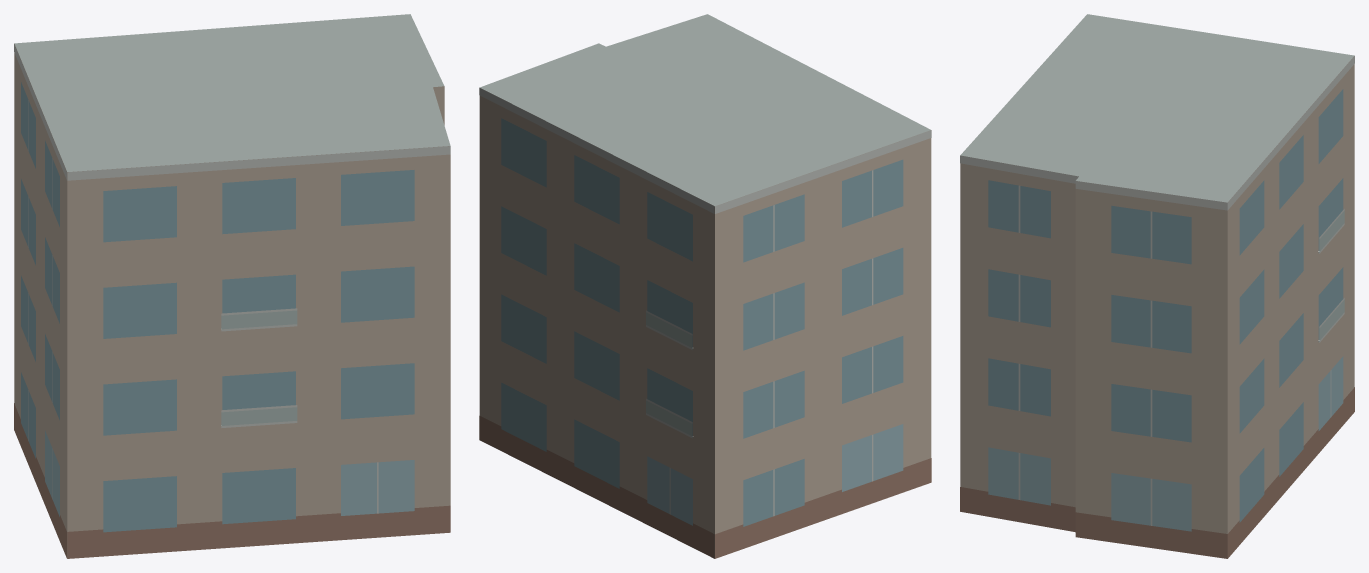
File: survey-upis-32719203.glb
The picture shows the model from 3 angles, left to right: view 1: azimuth 30°, elevation 25°; view 2: azimuth 150°, elevation 25°; view 3: azimuth 270°, elevation 25°; orthographic projection. The views are drawn at different scales.
Visible parts, largest first — view 1: survey-upis-32719203.tmp; view 2: survey-upis-32719203.tmp; view 3: survey-upis-32719203.tmp.
Boxes of the visible parts, x1,y1,x2,y2 form: survey-upis-32719203.tmp: [14, 14, 450, 558]; survey-upis-32719203.tmp: [479, 14, 931, 558]; survey-upis-32719203.tmp: [960, 14, 1354, 558].
Bounding box in the file's own units: 12.44 × 10.95 × 11.
